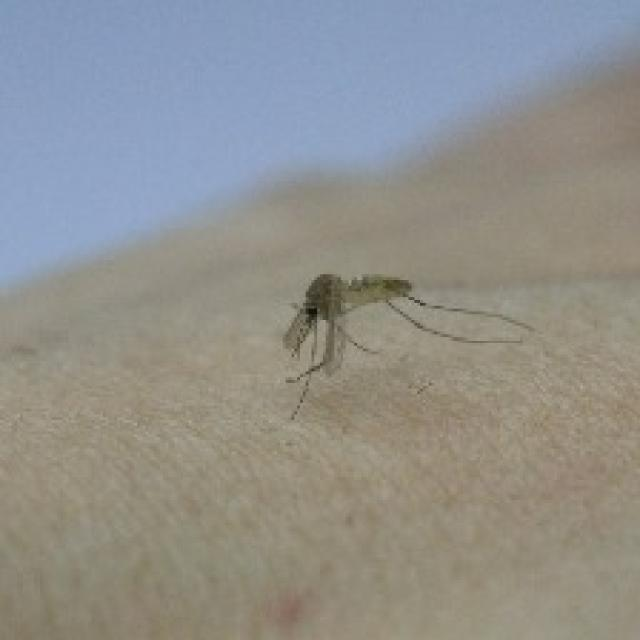culex: (277, 269, 534, 420)
